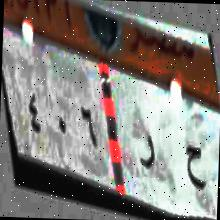0: (55, 111, 70, 141)
4: (21, 87, 45, 150)
6: (78, 106, 100, 154)
7aa: (178, 134, 209, 198)
raa: (134, 123, 161, 181)
